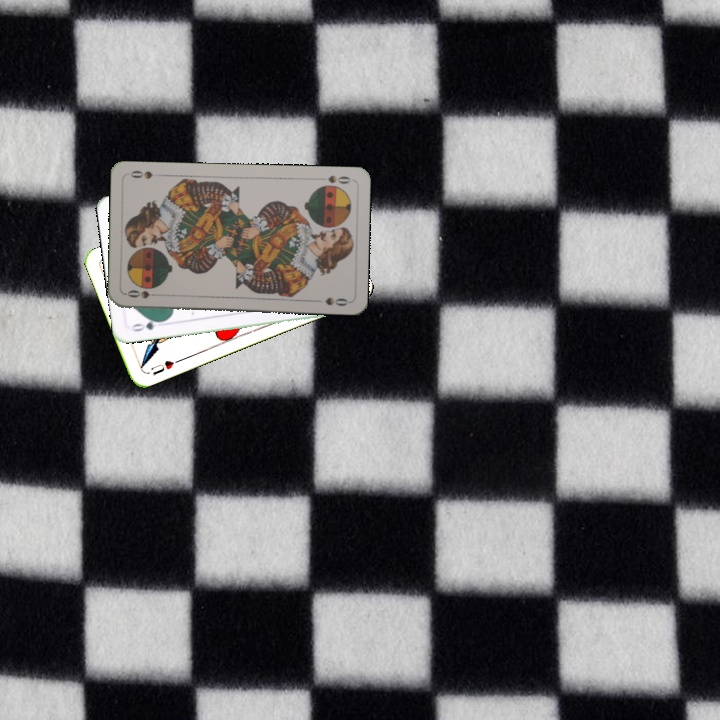GO: (128, 315, 167, 334)
HU: (147, 356, 177, 378)
SO: (122, 286, 163, 301), (324, 171, 353, 186)
